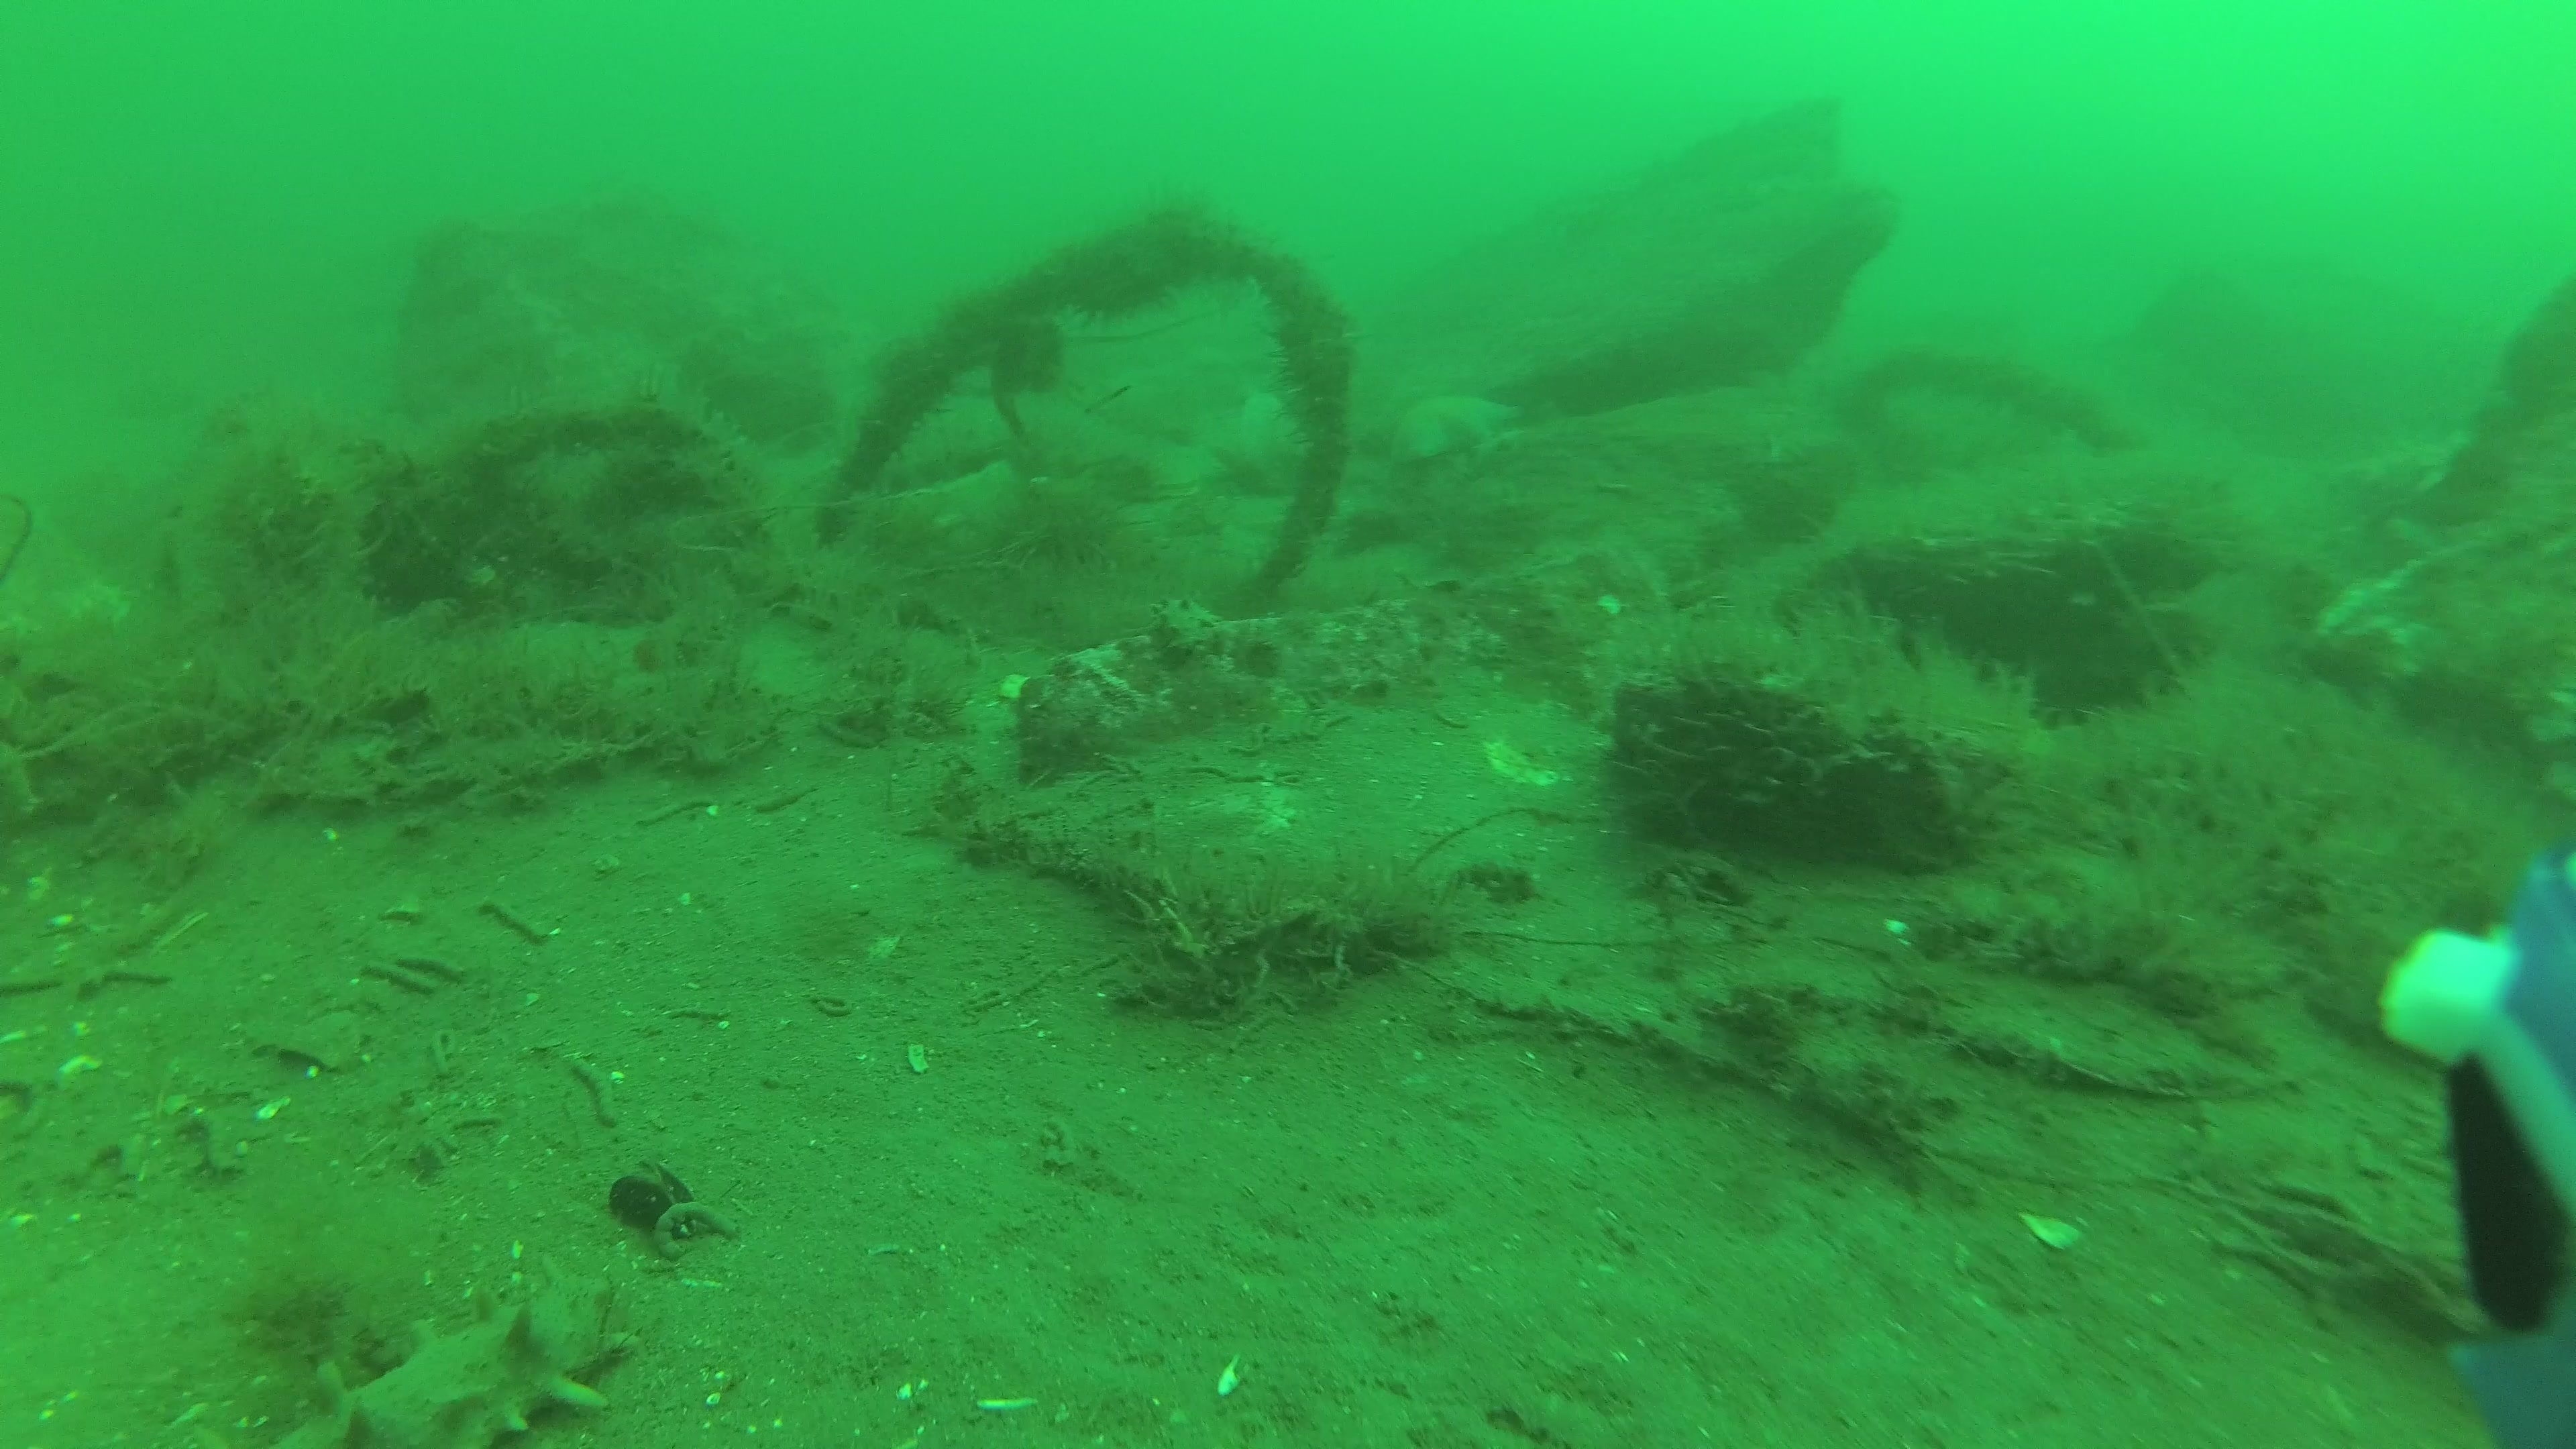holothurian: (251, 1251, 639, 1449)
